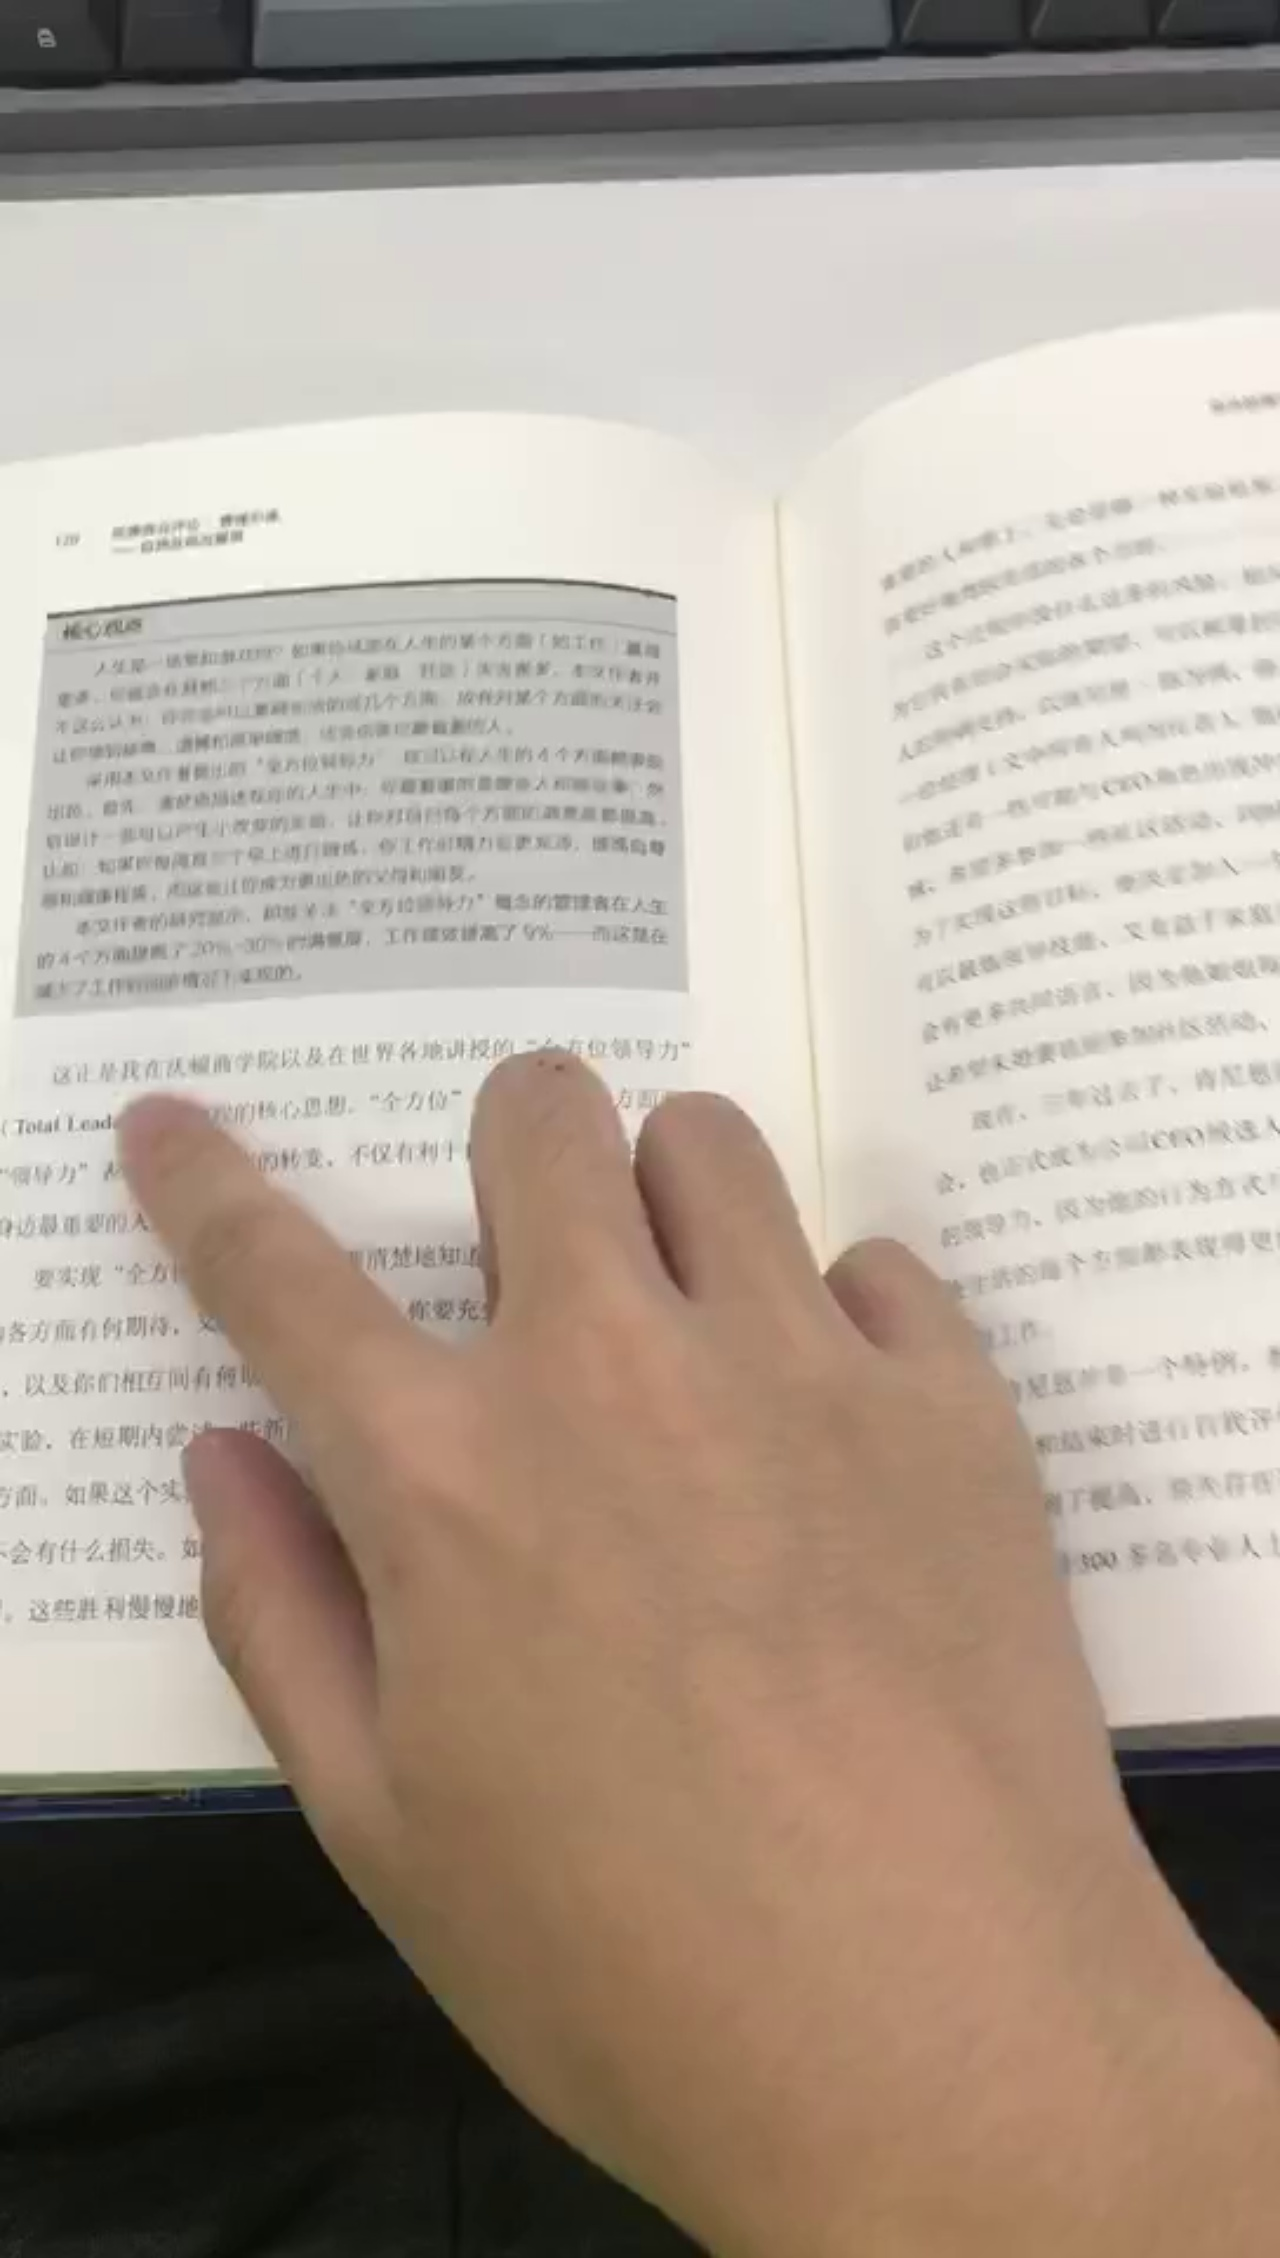finger0: (178, 1448, 227, 1535)
finger2: (116, 1089, 202, 1163)
